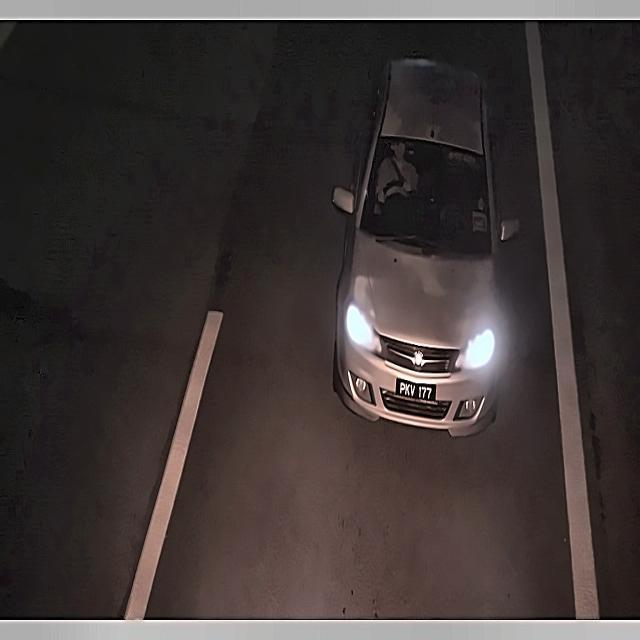car: (394, 373, 440, 408)
